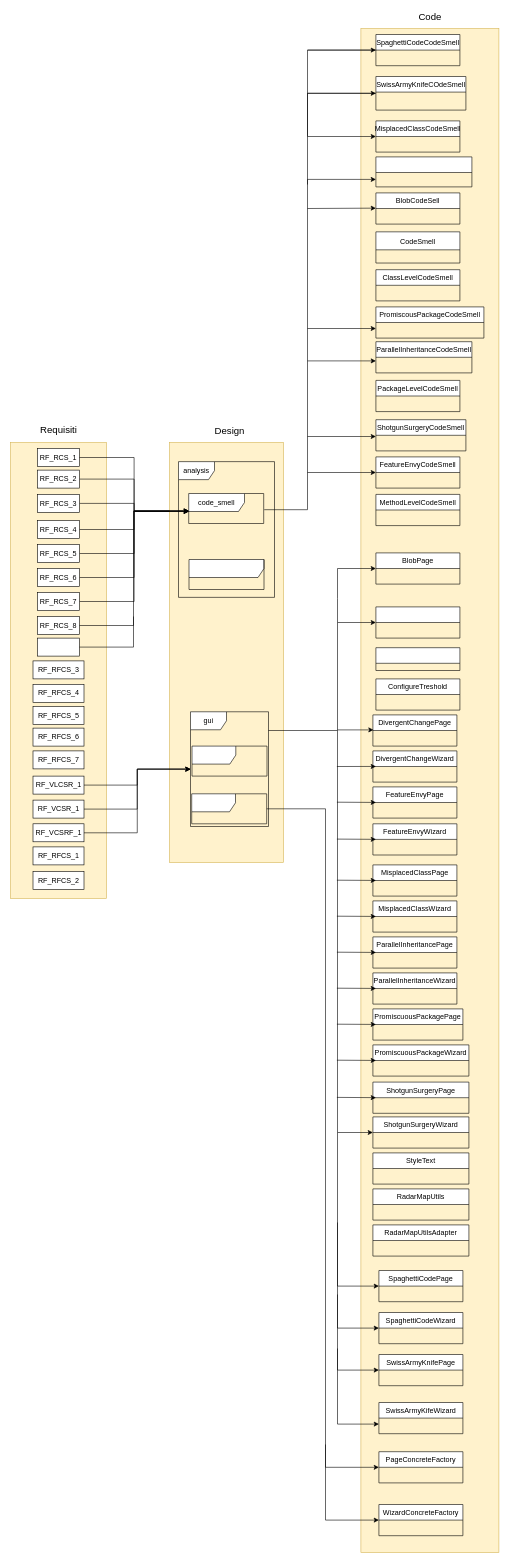
Some shapes in this 509 by 1563 pixel diagram are drawn without their labels. The centre of each missing label's shape, as x and y in pixels:
"BlobWizard" goes at pixel 417 622.
"CheckProjectPage" goes at pixel 417 658.
"code_smell_detection" goes at pixel 226 574.
"DivergentChangeCodeSmell" goes at pixel 423 171.
"factory" goes at pixel 229 808.
"radar" goes at pixel 229 761.
"RF_RCS_9" goes at pixel 58 647.
